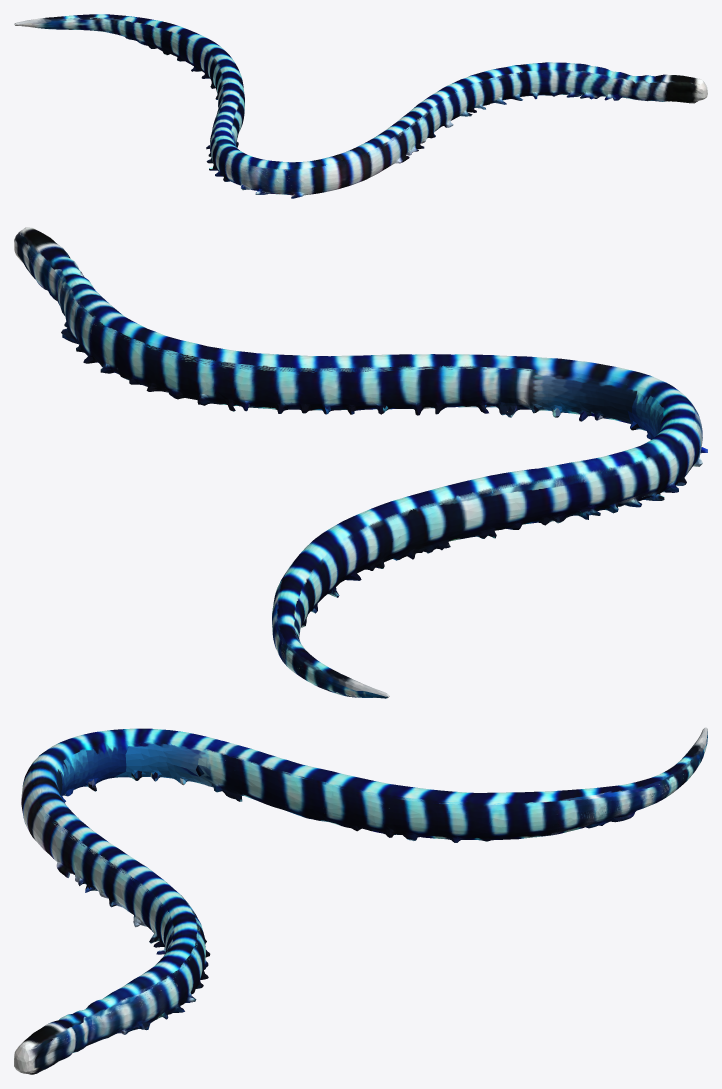
Rendered from paint_mesh_Sea_Snake.glb.
3 renders of one model, top to bottom at view 1: azimuth 30°, elevation 25°; view 2: azimuth 150°, elevation 25°; view 3: azimuth 270°, elevation 25°, orthographic. The views are drawn at different scales.
Visible parts, largest first — view 1: world; view 2: world; view 3: world.
Part boxes in pixels (left/top/right/bottom): world: left=14, top=14, right=707, bottom=198; world: left=14, top=227, right=707, bottom=698; world: left=14, top=727, right=707, bottom=1074.
Bounding box in the file's own units: 1.87 × 0.1242 × 1.68.
1 material, 1 textured.
